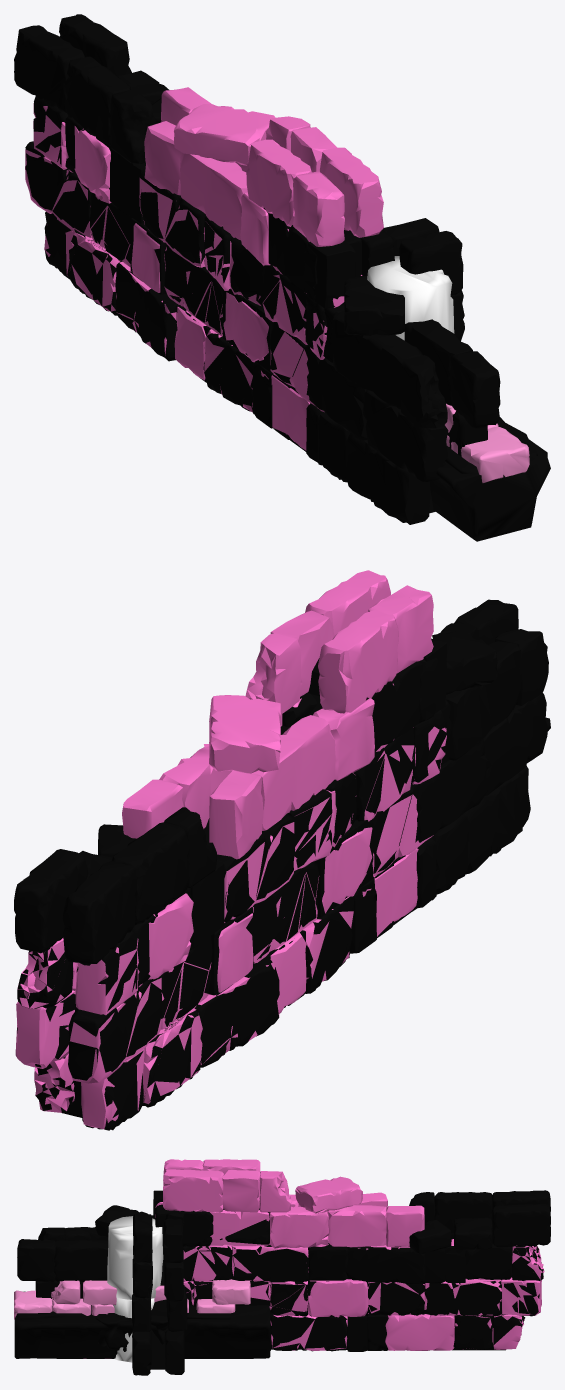
File: Temple_Pieces.fbx
3 views of the same model, one above another, from view 1: azimuth 30°, elevation 25°; view 2: azimuth 150°, elevation 25°; view 3: azimuth 270°, elevation 25° (orthographic). The views are drawn at different scales.
Parts seen in each view (by area): view 1: wall_var03, wall_var01, wall_corner02, beam_upper, pillar_cylinder_tapered, wall_small, beam_lower; view 2: wall_var01, wall_var03, wall_corner02; view 3: wall_var03, wall_var01, wall_corner02, beam_upper, wall_small, pillar_cylinder_tapered, beam_lower, pillar_cylinder_head.
Boxes of the visible parts, x1,y1,x2,y2 form: wall_var03: (14,14,394,479); wall_var01: (25,87,383,450); wall_corner02: (303,218,500,524); beam_upper: (430,417,550,541); pillar_cylinder_tapered: (367,256,454,340); wall_small: (445,403,529,482); beam_lower: (445,440,537,535); wall_var01: (15,570,446,1129); wall_var03: (14,638,459,1130); wall_corner02: (411,599,548,908); wall_var03: (153,1190,550,1351); wall_var01: (155,1159,544,1350); wall_corner02: (17,1205,187,1375); beam_upper: (14,1291,270,1358); wall_small: (14,1279,250,1358); pillar_cylinder_tapered: (107,1216,163,1362); beam_lower: (14,1304,269,1358); pillar_cylinder_head: (95,1314,167,1354).
Bounding box in the file's own units: 251 × 400 × 1113.
